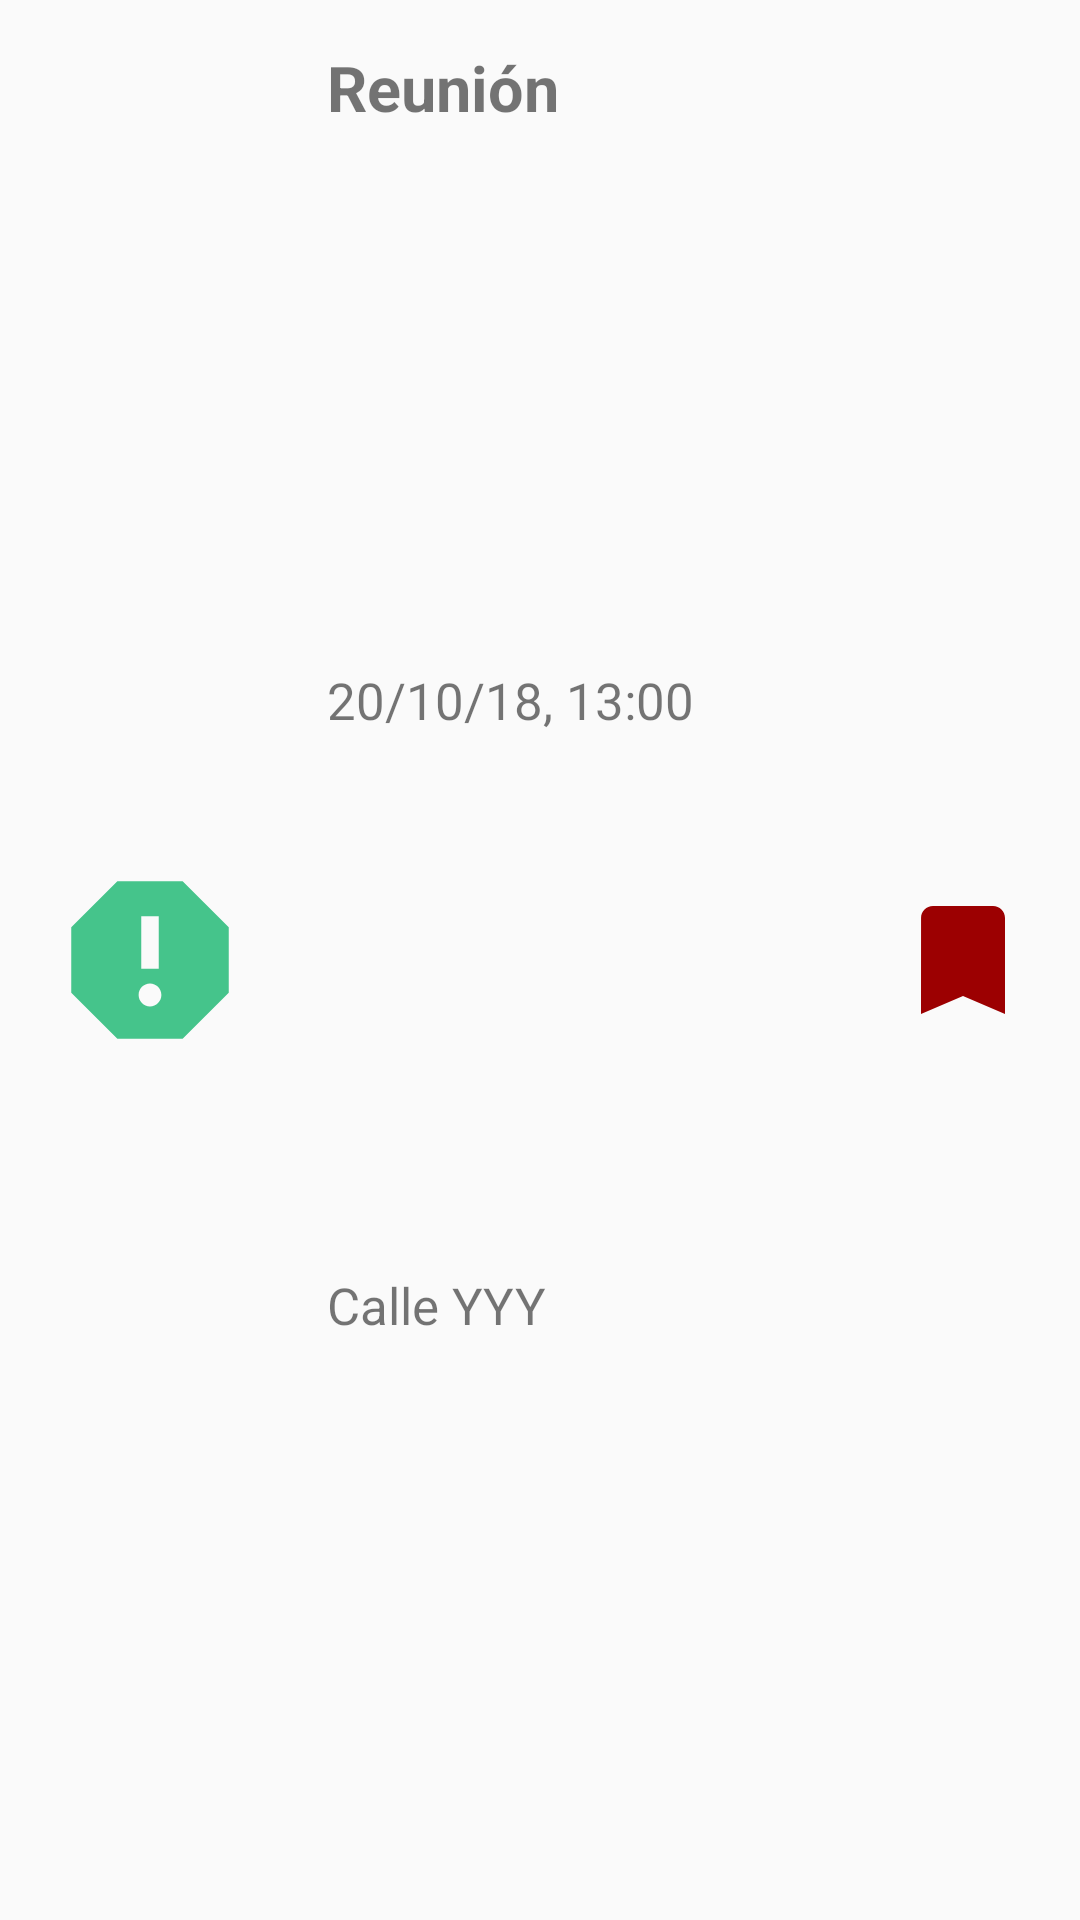

Icons on this 1080×1920 Android screen, each with the point to tap as [x,y]:
Prioridad: [150,960]
